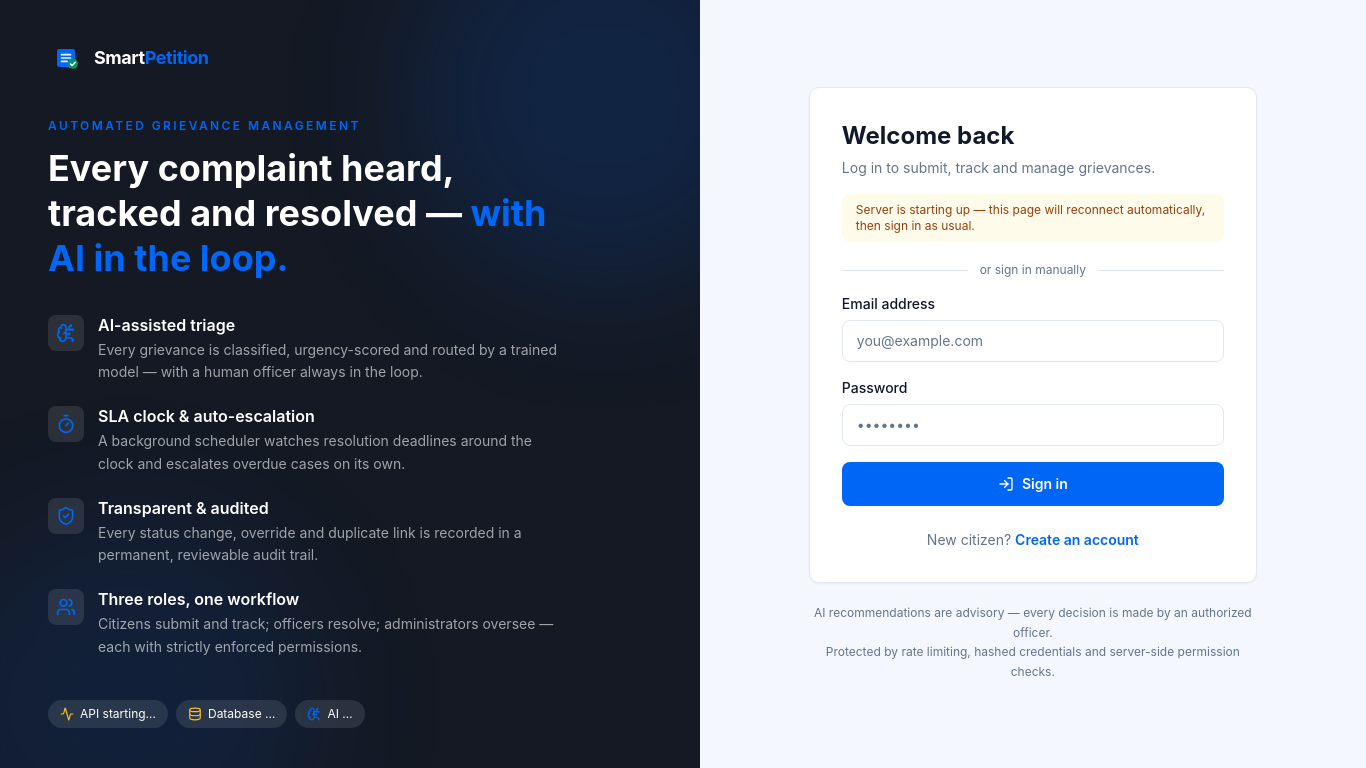
Test: login form › validates required fields client-side
Click the button "Sign in".
click(1033, 484)  # box [842,462,1224,506]
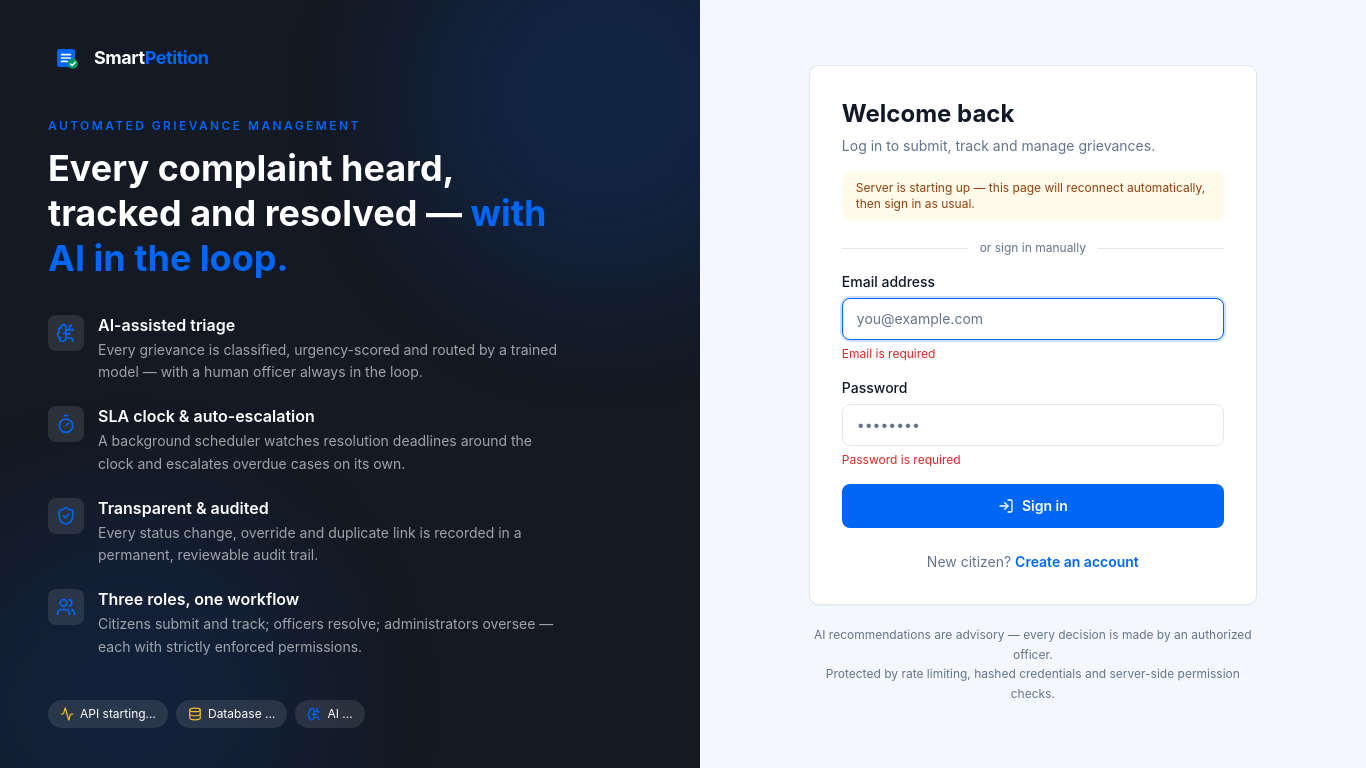
expect the text "Email is required" is shown: met, box [842,346,935,361]
expect the text "Password is required" is shown: met, box [842,452,961,467]
